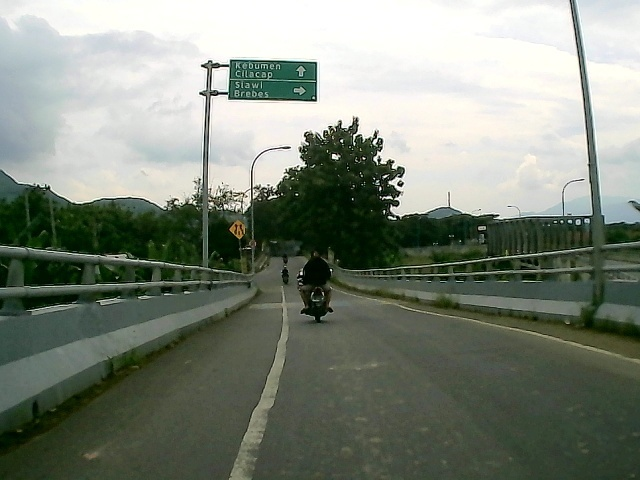Akhir bangunan pemisah satu arah: (226, 217, 247, 241)
